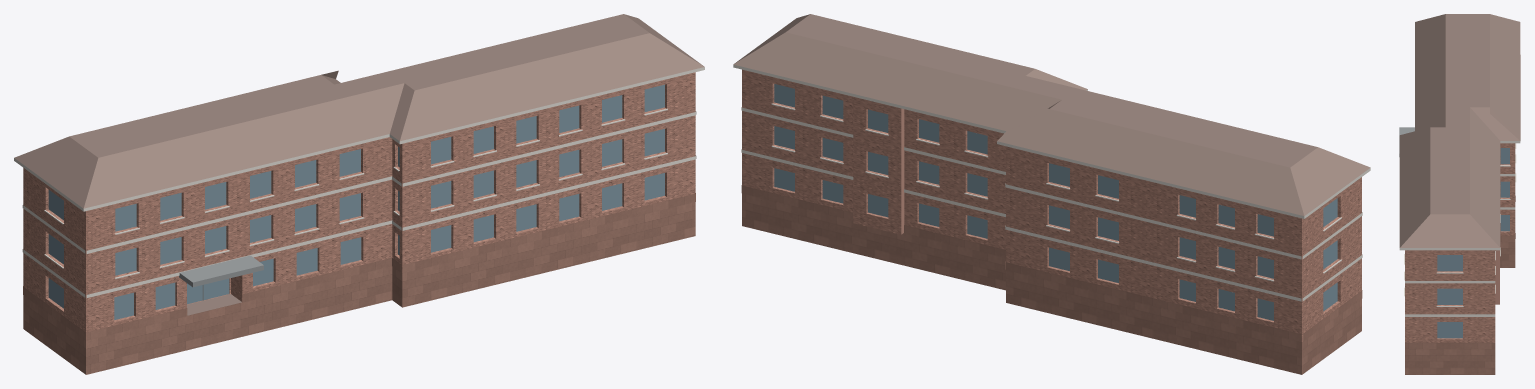
3 views of the same model, side by side, from view 1: azimuth 30°, elevation 25°; view 2: azimuth 150°, elevation 25°; view 3: azimuth 270°, elevation 25° (orthographic). The views are drawn at different scales.
Visible parts, largest first — view 1: intlVillageCW5_3__wall, intlVillageCW5_3__roof, intlVillageCW5_3__base, intlVillageCW5_3__glass, intlVillageCW5_3__trim, intlVillageCW5_3__canopy; view 2: intlVillageCW5_3__wall, intlVillageCW5_3__roof, intlVillageCW5_3__base, intlVillageCW5_3__glass, intlVillageCW5_3__trim; view 3: intlVillageCW5_3__roof, intlVillageCW5_3__wall, intlVillageCW5_3__base, intlVillageCW5_3__glass, intlVillageCW5_3__trim, intlVillageCW5_3__wall2, intlVillageCW5_3__canopy.
Part boxes in pixels (bbox=[...]): intlVillageCW5_3__wall: bbox=[23, 72, 695, 340]; intlVillageCW5_3__roof: bbox=[14, 14, 704, 315]; intlVillageCW5_3__base: bbox=[23, 193, 695, 374]; intlVillageCW5_3__glass: bbox=[48, 84, 664, 319]; intlVillageCW5_3__trim: bbox=[14, 67, 704, 297]; intlVillageCW5_3__canopy: bbox=[179, 255, 263, 287]; intlVillageCW5_3__wall: bbox=[742, 69, 1361, 341]; intlVillageCW5_3__roof: bbox=[733, 14, 1370, 215]; intlVillageCW5_3__base: bbox=[741, 185, 1362, 374]; intlVillageCW5_3__glass: bbox=[774, 84, 1337, 320]; intlVillageCW5_3__trim: bbox=[733, 64, 1370, 301]; intlVillageCW5_3__roof: bbox=[1399, 14, 1520, 247]; intlVillageCW5_3__wall: bbox=[1405, 143, 1515, 342]; intlVillageCW5_3__base: bbox=[1405, 196, 1515, 374]; intlVillageCW5_3__glass: bbox=[1437, 148, 1509, 338]; intlVillageCW5_3__trim: bbox=[1399, 139, 1520, 316]; intlVillageCW5_3__wall2: bbox=[1495, 250, 1499, 304]; intlVillageCW5_3__canopy: bbox=[1399, 127, 1414, 156].
Size of the model in its own units: 46.38 by 14.34 by 10.5.
9 materials, 2 textured.
